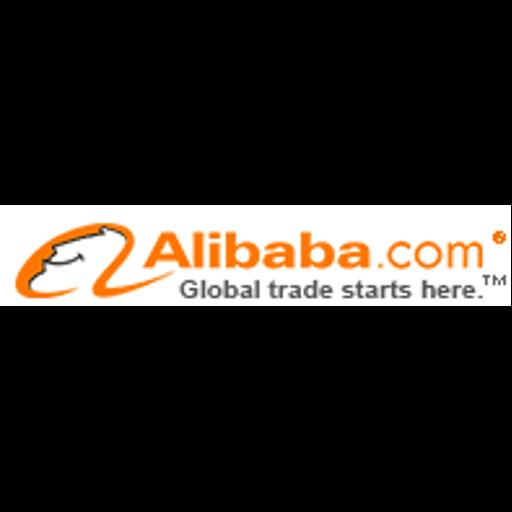Alibaba: (0, 205, 511, 306)
